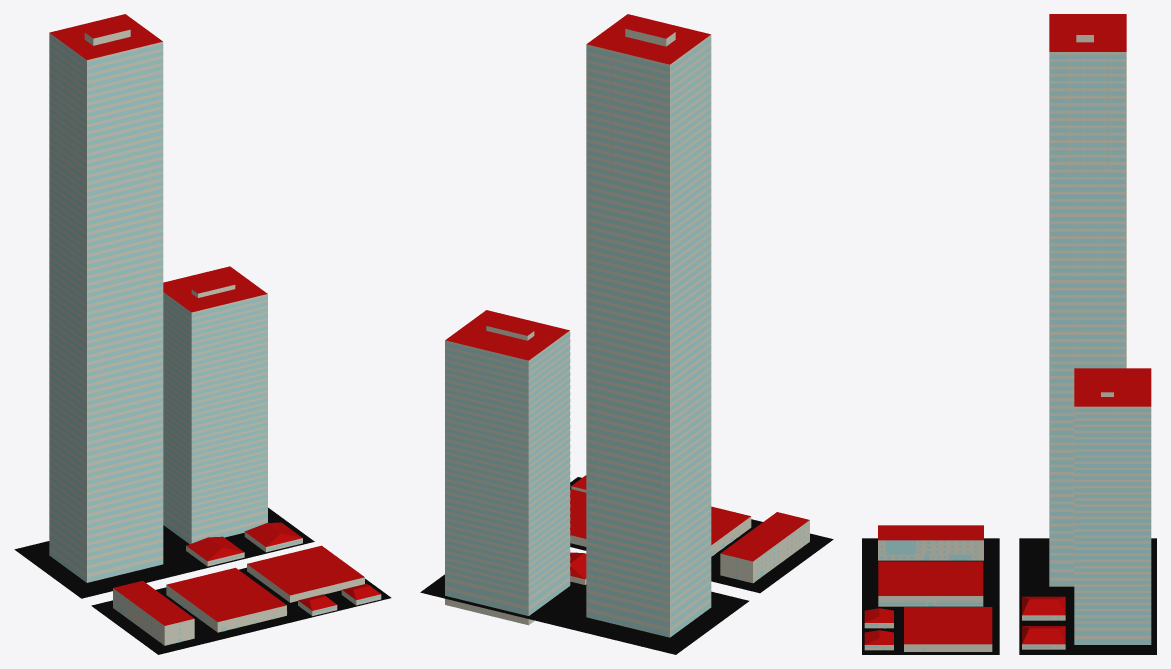
3 views of the same model, side by side, from view 1: azimuth 30°, elevation 25°; view 2: azimuth 150°, elevation 25°; view 3: azimuth 270°, elevation 25° (orthographic). The views are drawn at different scales.
Parts seen in each view (by area): view 1: Windows, Walls, Roofs, Ground; view 2: Windows, Walls, Roofs, Ground; view 3: Windows, Walls, Roofs, Ground.
Boxes of the visible parts, x1=… form: Windows: x1=49, y1=35, x2=380, y2=644; Walls: x1=49, y1=29, x2=381, y2=645; Roofs: x1=49, y1=14, x2=380, y2=625; Ground: x1=14, y1=507, x2=391, y2=654; Windows: x1=445, y1=37, x2=809, y2=636; Walls: x1=445, y1=29, x2=809, y2=637; Roofs: x1=445, y1=14, x2=809, y2=579; Ground: x1=420, y1=477, x2=833, y2=654; Windows: x1=865, y1=54, x2=1151, y2=651; Walls: x1=864, y1=35, x2=1151, y2=651; Roofs: x1=864, y1=14, x2=1151, y2=644; Ground: x1=862, y1=538, x2=1156, y2=654.
Bounding box in the file's own units: 142 × 314 × 152.
